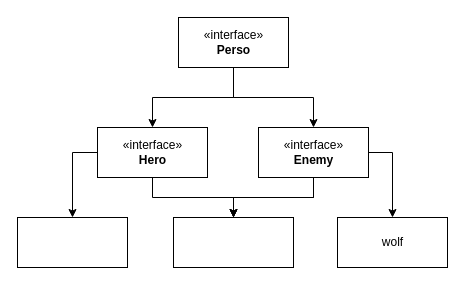
Image size: 465x285. Some labels were removed from this diagram. The shapes that lost their labels are listed below. From the top down, each one's box as (x1, y1, x2, y2) in pixels, then its label:
(16, 216, 128, 268): knight
(172, 216, 294, 268): elf
